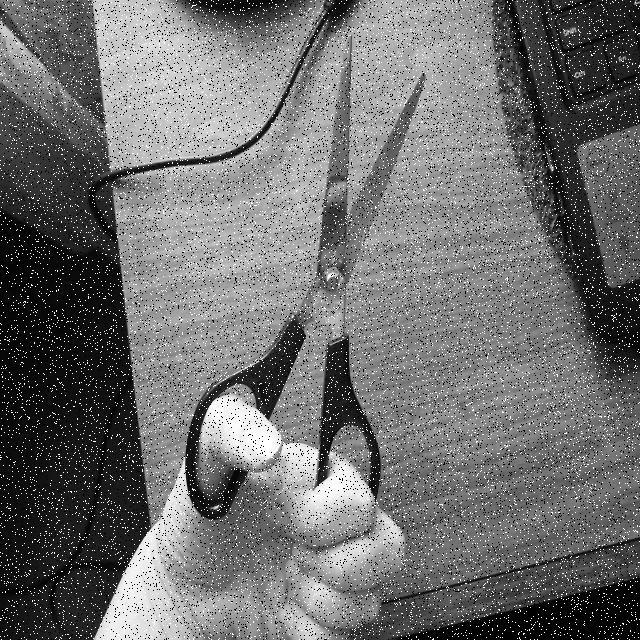scissors: (160, 26, 445, 588)
